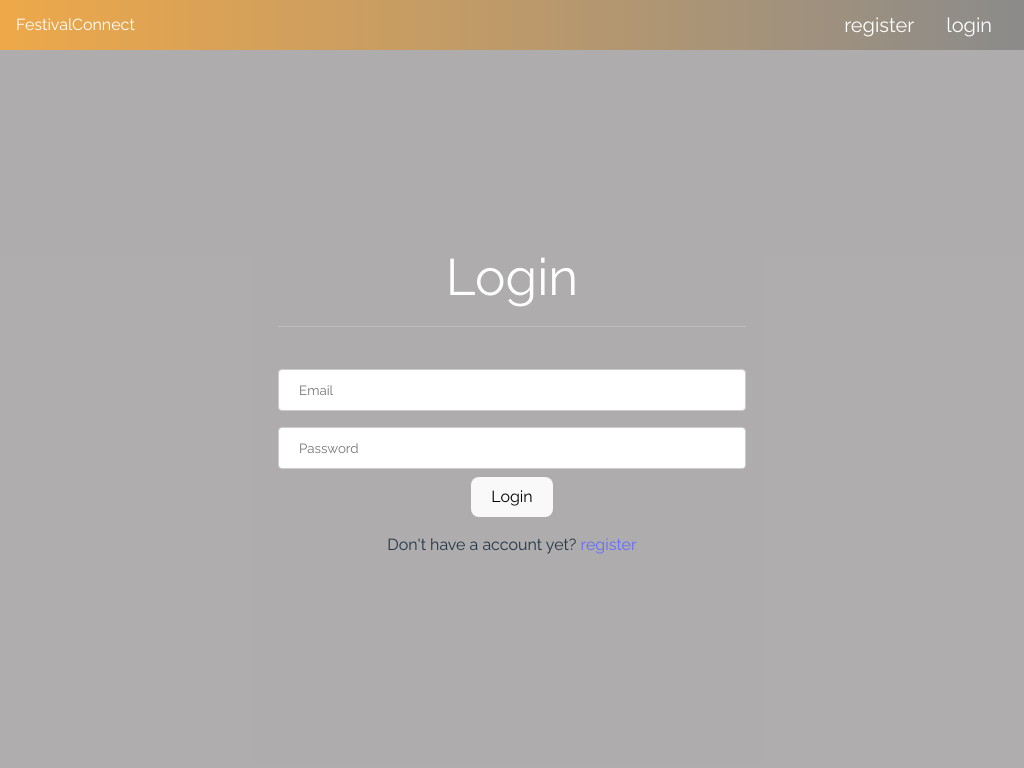
Login Input Fields › displays error message if email field is empty
Type "password123" into the password field with placeholder "Password" at x=512, y=448, box [278, 427, 746, 469]
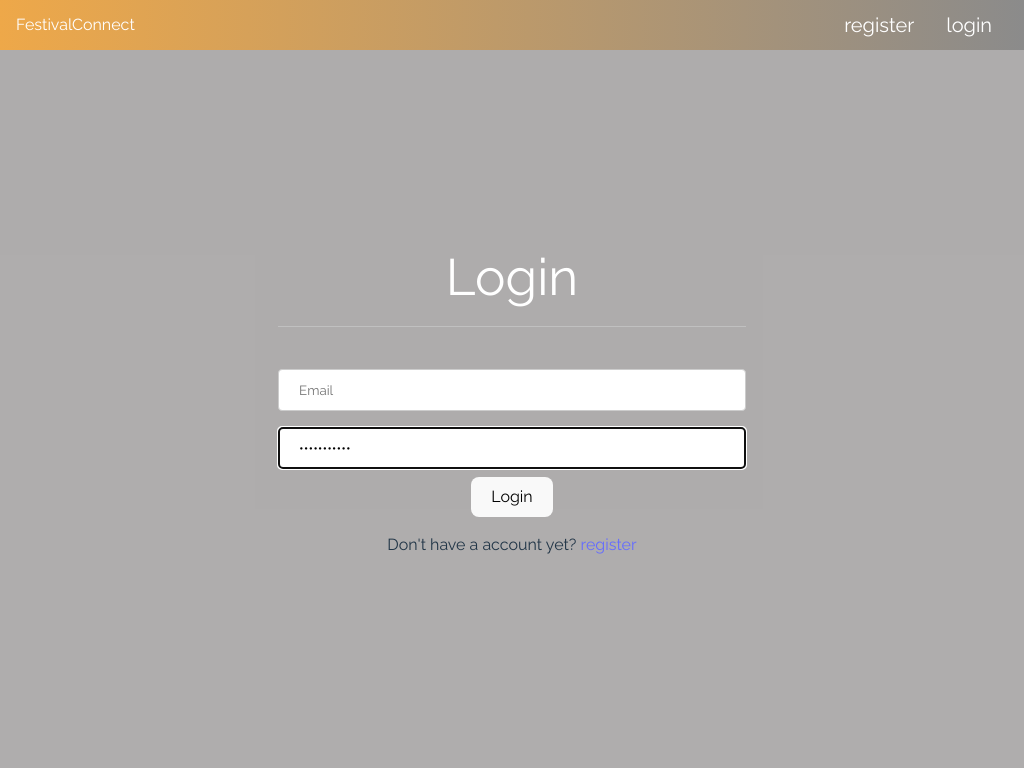
Click the button "Login" at x=512, y=497, box [471, 477, 553, 517]
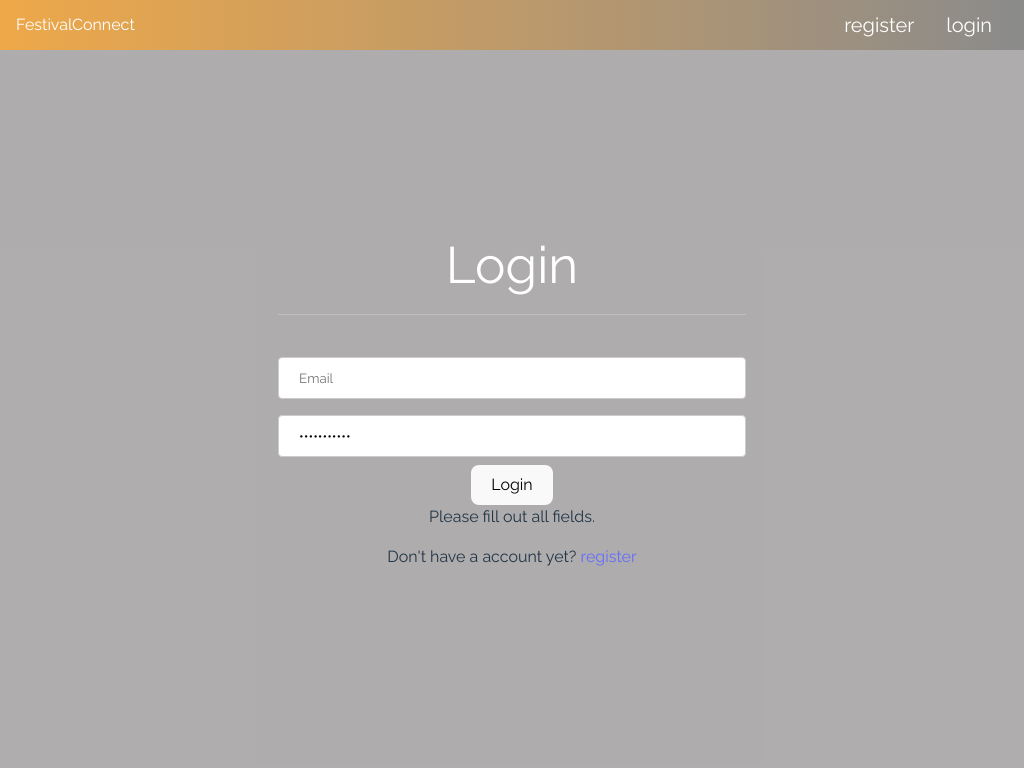
Now the text with id "error" reads "Please fill out all fields.", box [429, 507, 595, 526]
